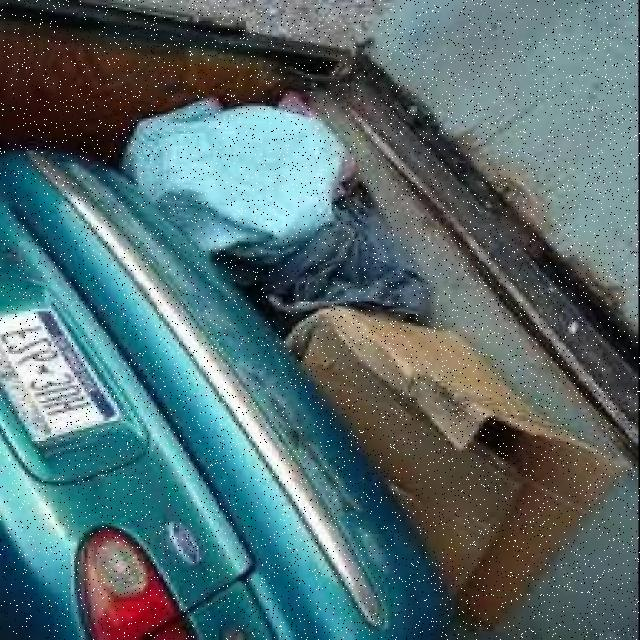damage: (73, 156, 380, 567)
